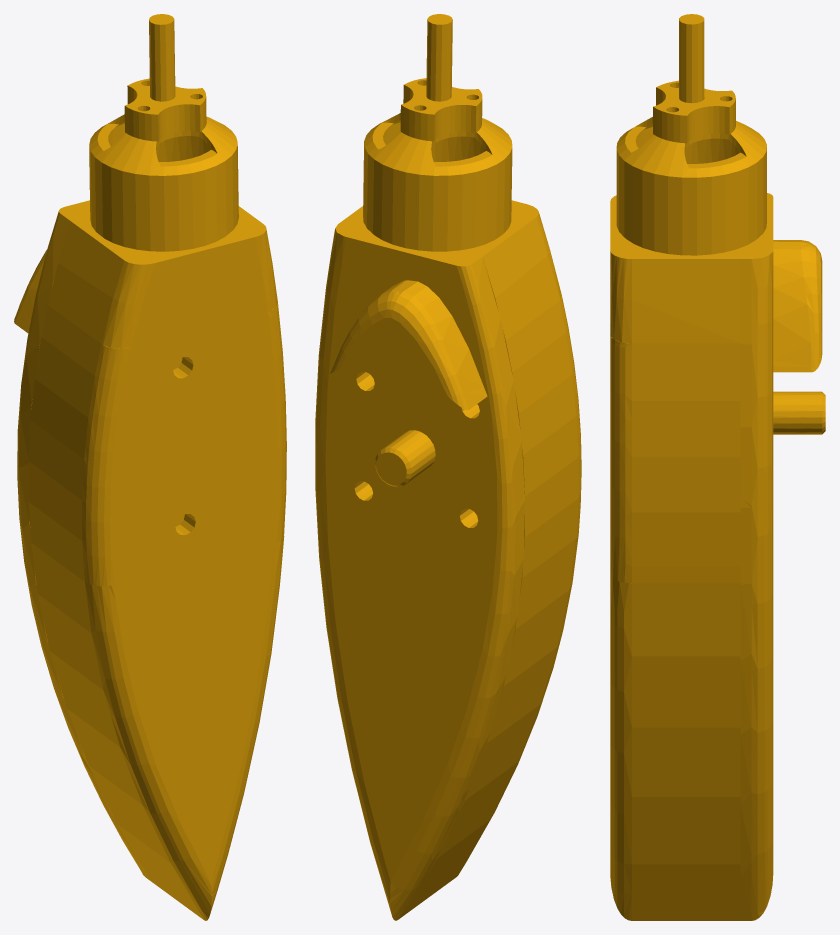
The model's file is RotorR_yellow.dae.
The picture shows the model from 3 angles, left to right: view 1: azimuth 30°, elevation 25°; view 2: azimuth 150°, elevation 25°; view 3: azimuth 270°, elevation 25°; orthographic projection.
Parts seen in each view (by area): view 1: Rotor_R; view 2: Rotor_R; view 3: Rotor_R.
Boxes of the visible parts, x1,y1,x2,y2 form: Rotor_R: [14, 14, 286, 920]; Rotor_R: [315, 14, 581, 920]; Rotor_R: [610, 14, 825, 920].
Bounding box in the file's own units: 0.055 × 0.0501 × 0.2293.
